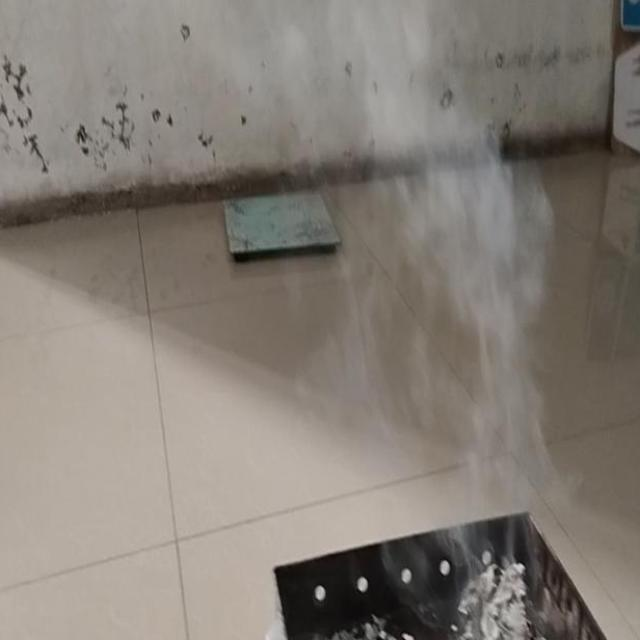fire: (366, 44, 544, 456)
